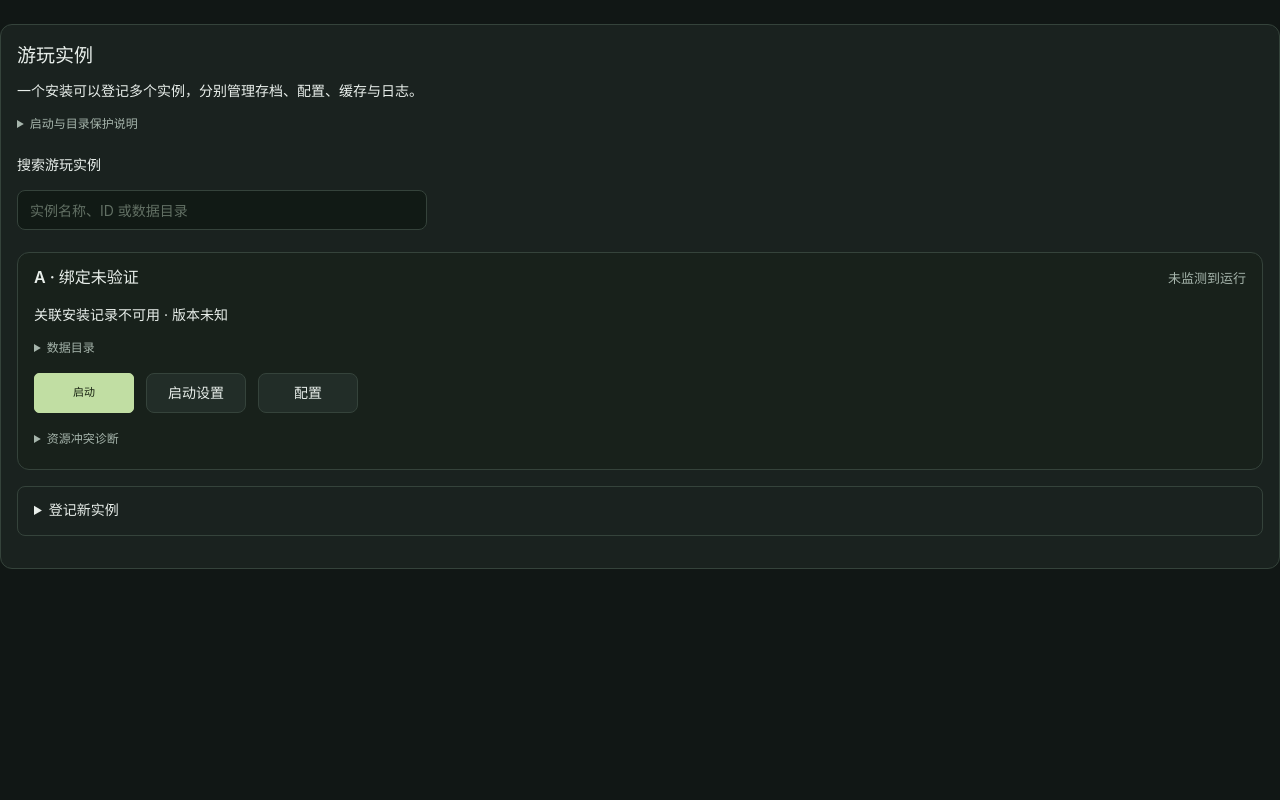
Test: opens read-only inspection for an instance without creating a launch plan
Click the button with aria-label "配置 A". click: x=308, y=393
box: [258,373,358,413]
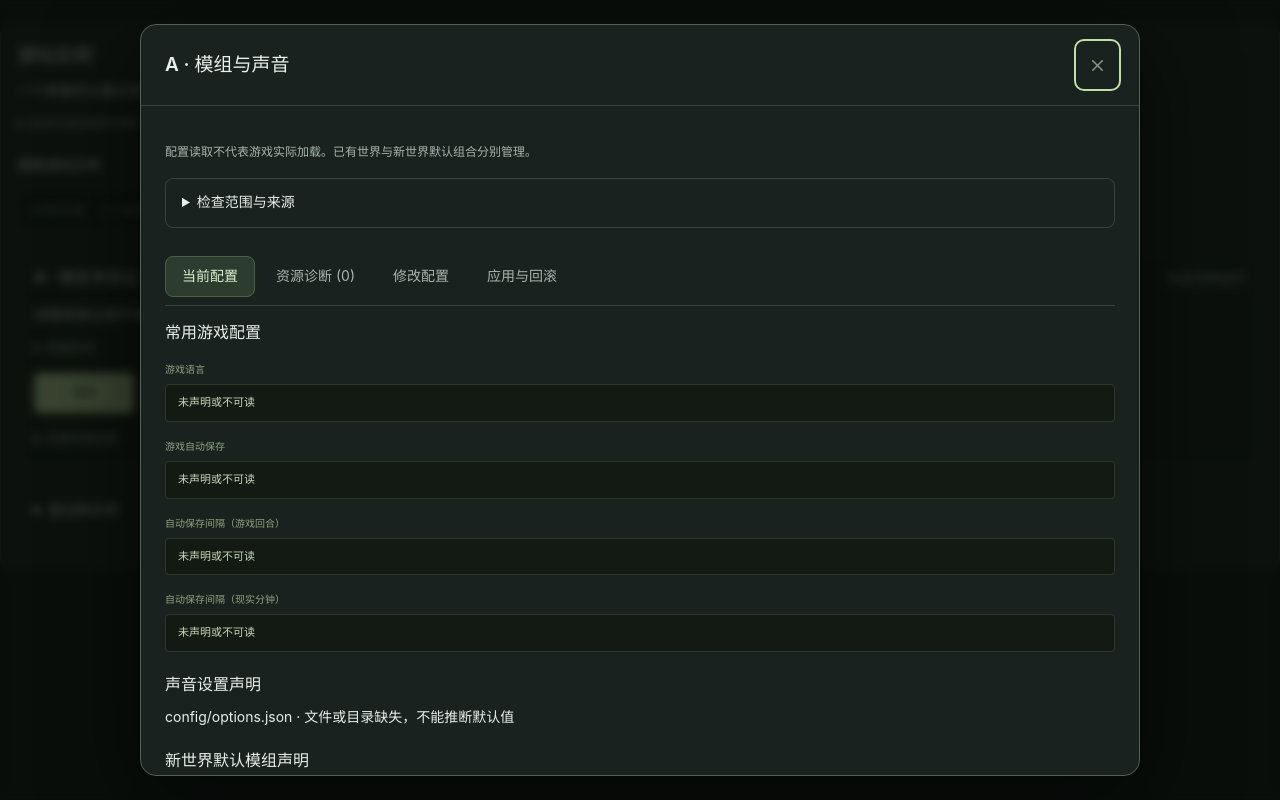
Expected: the dialog is shown
